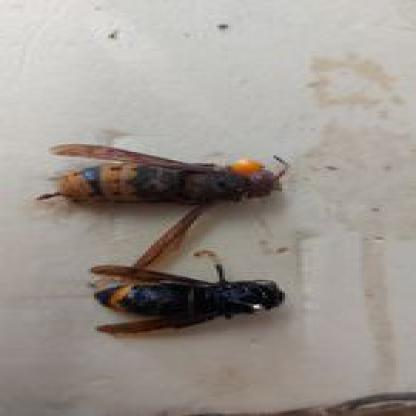Asian Hornet: (21, 140, 302, 249), (68, 255, 298, 335)
